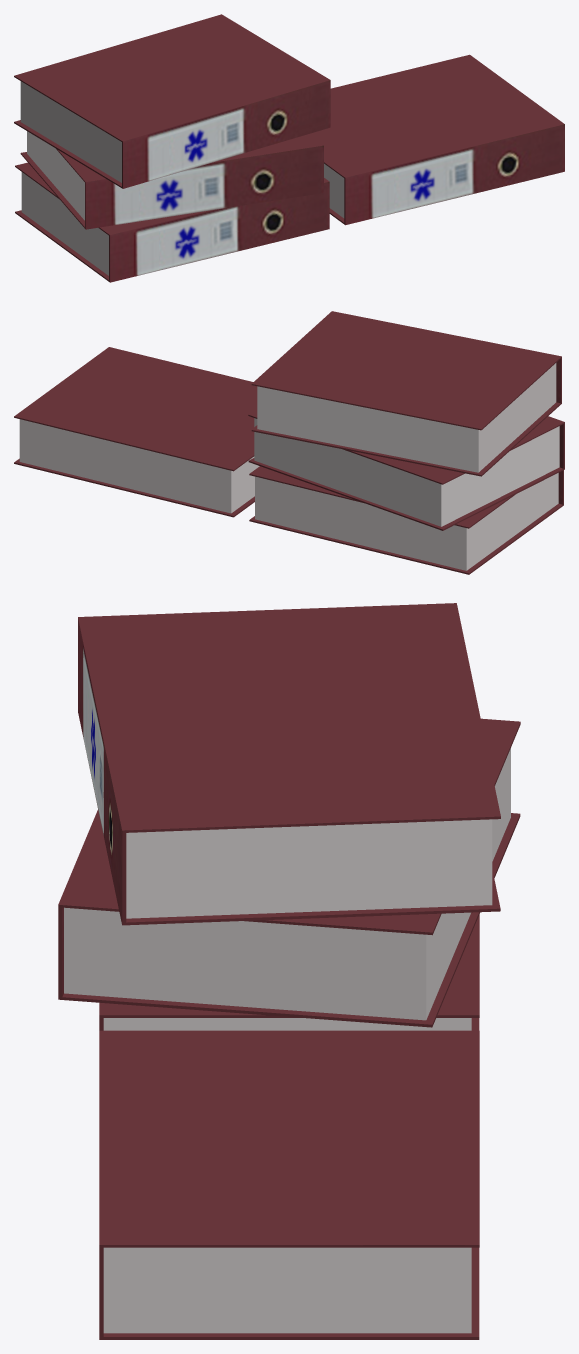
Rendered from Files 3.FBX.
3 views of the same model, one above another, from view 1: azimuth 30°, elevation 25°; view 2: azimuth 150°, elevation 25°; view 3: azimuth 270°, elevation 25° (orthographic). The views are drawn at different scales.
Visible parts, largest first — view 1: Files 4, Files 3, Files 1, Files 2; view 2: Files 4, Files 3, Files 2, Files 1; view 3: Files 4, Files 3, Files 2, Files 1.
Boxes of the visible parts, x1,y1,x2,y2 form: Files 4: [14, 14, 330, 188]; Files 3: [313, 54, 564, 225]; Files 1: [15, 162, 329, 282]; Files 2: [20, 131, 323, 229]; Files 4: [251, 311, 561, 476]; Files 3: [14, 347, 259, 517]; Files 2: [248, 410, 564, 530]; Files 1: [249, 466, 563, 574]; Files 4: [78, 603, 500, 925]; Files 3: [99, 1030, 479, 1339]; Files 2: [58, 718, 520, 1027]; Files 1: [99, 914, 479, 1030].
Bounding box in the file's own units: 514 × 220 × 150.
Materials: 1 (1 with a texture image).
